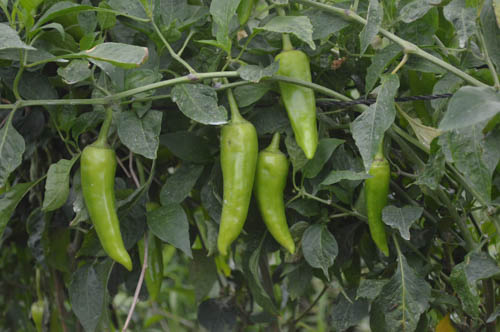ChiliPepper: (80, 147, 131, 270), (215, 125, 257, 253), (276, 54, 320, 155), (256, 152, 291, 250), (366, 161, 392, 253), (140, 206, 164, 297)
